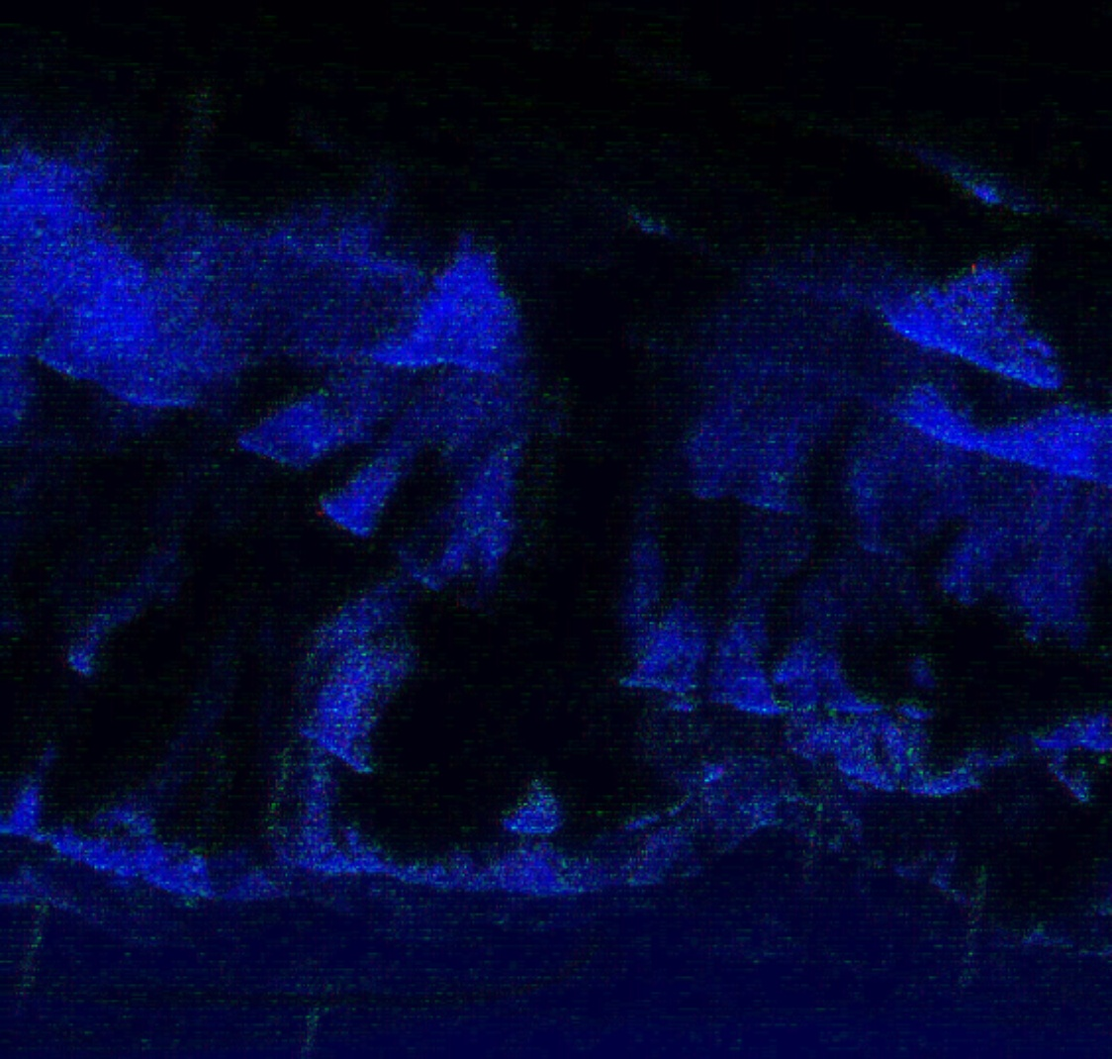rip_current: (322, 211, 777, 800)
